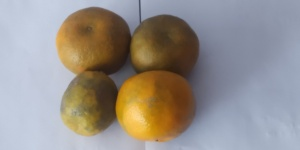BAD: (113, 70, 194, 142), (57, 7, 130, 76), (130, 13, 199, 77), (59, 68, 120, 139)
